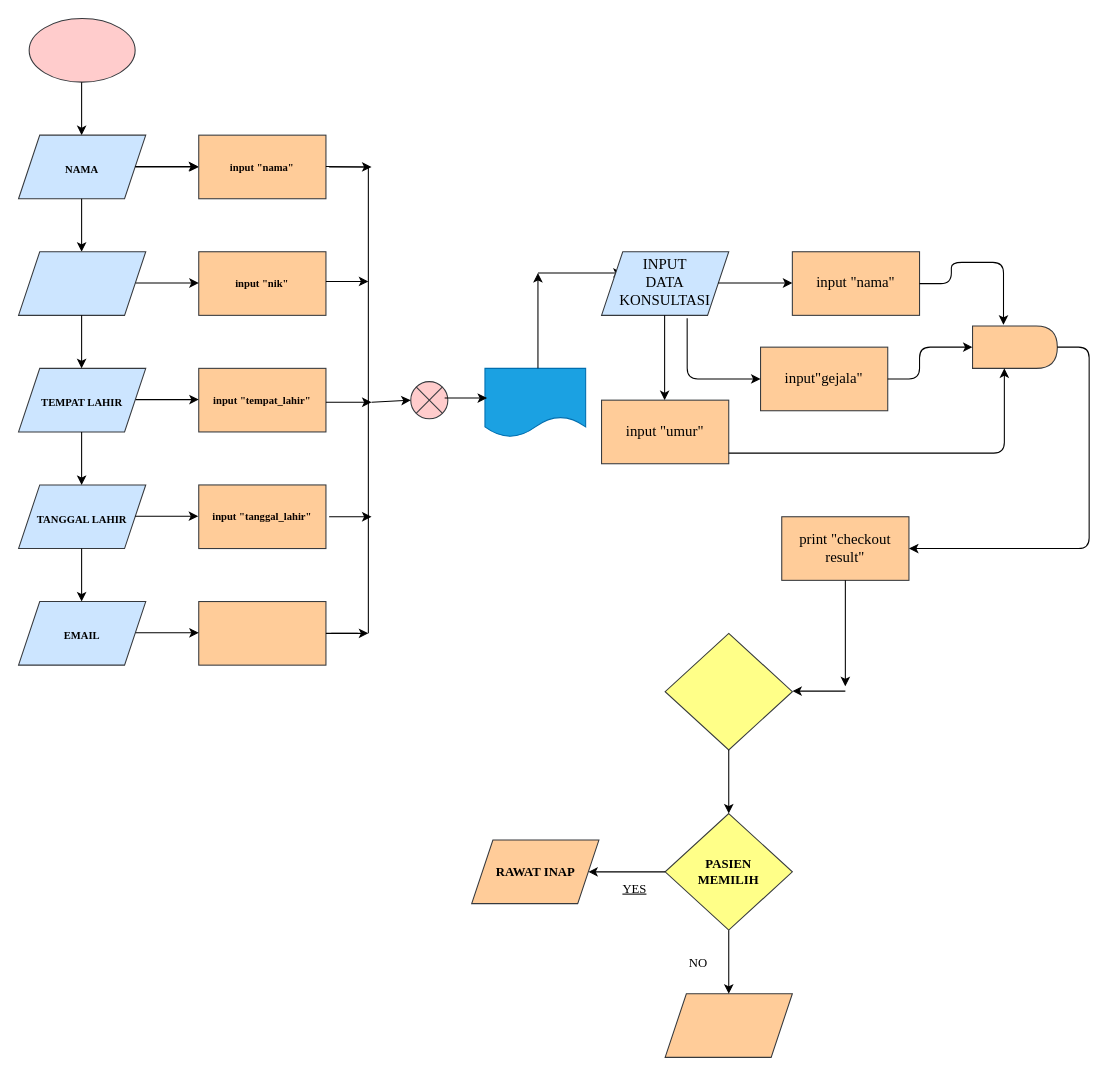
Image size: 1116x1076. Some labels were removed from this diagram. Each missing label, with the centre of its shape:
DESEASE RATE "HIGH": (728,691)
input "email": (262,632)
MENUNGGU HASIL CHECKUP: (1014,346)
NIK: (81,283)
ROUTE: (535,402)
START: (81,49)
TIDAK RAWAT INAP: (728,1025)
